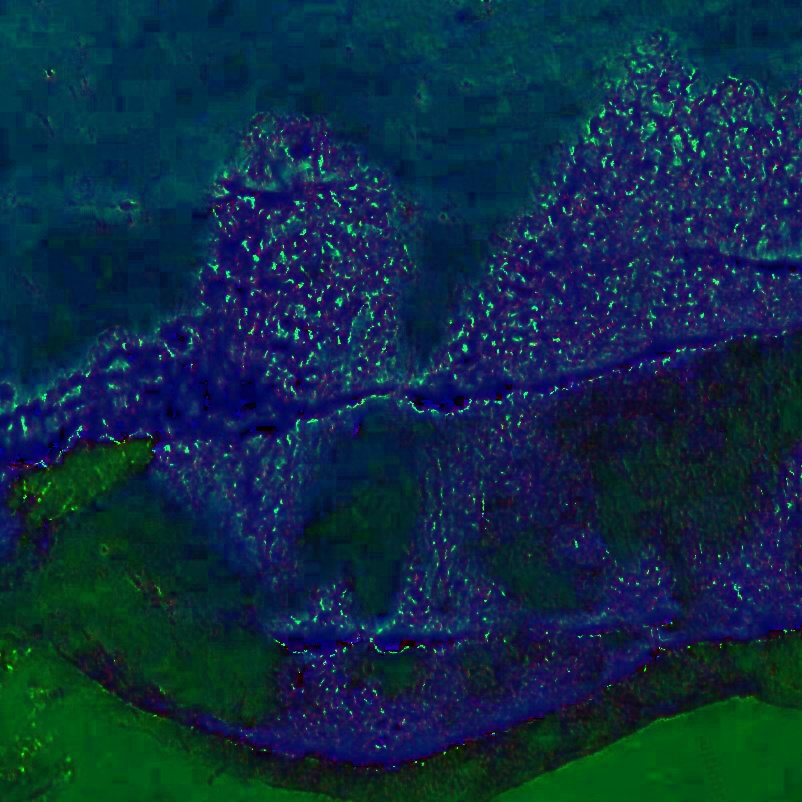rip_current: (274, 26, 529, 639)
